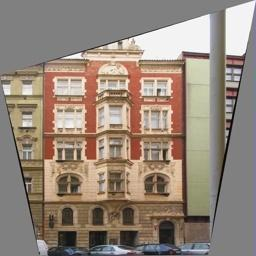building: (41, 20, 186, 243)
